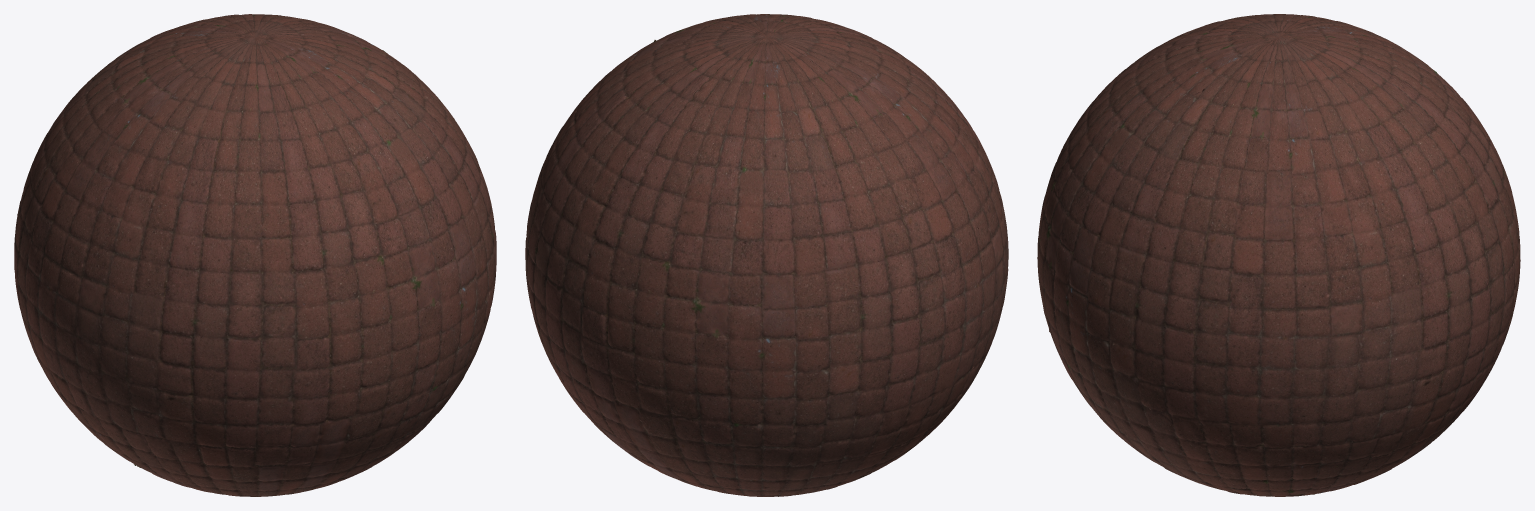
Rendered from square_pavers_1k.gltf.
3 renders of one model, left to right at view 1: azimuth 30°, elevation 25°; view 2: azimuth 150°, elevation 25°; view 3: azimuth 270°, elevation 25°, orthographic.
Parts seen in each view (by area): view 1: sphere_gltf; view 2: sphere_gltf; view 3: sphere_gltf.
Boxes of the visible parts, box(x1,y1,x2,y2) form: sphere_gltf: box(14, 14, 496, 496); sphere_gltf: box(525, 14, 1008, 496); sphere_gltf: box(1037, 14, 1520, 496).
Bounding box in the file's own units: 2.2 × 2.2 × 2.2.
Materials: 1 (1 with a texture image).
